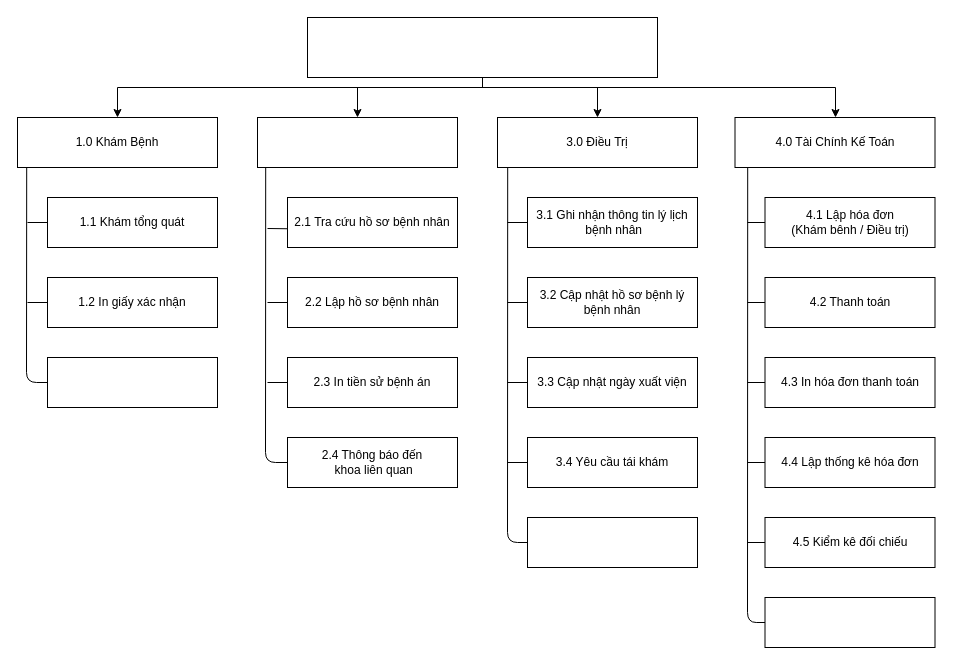
The diagram is 953 pixels wide and 665 high, and some of its shapes have lost their labels. Each missing label, with the centre of its shape:
"1.3 In kết quả khám tổng quát" goes at pixel 132 382.
"2.0 Tiếp Nhận" goes at pixel 357 142.
"3.5 In giấy xuất viện" goes at pixel 612 542.
"4,6 Lập báo cáo" goes at pixel 849 622.
"Hệ thống quản lý hoạt động bệnh viện" goes at pixel 482 47.
